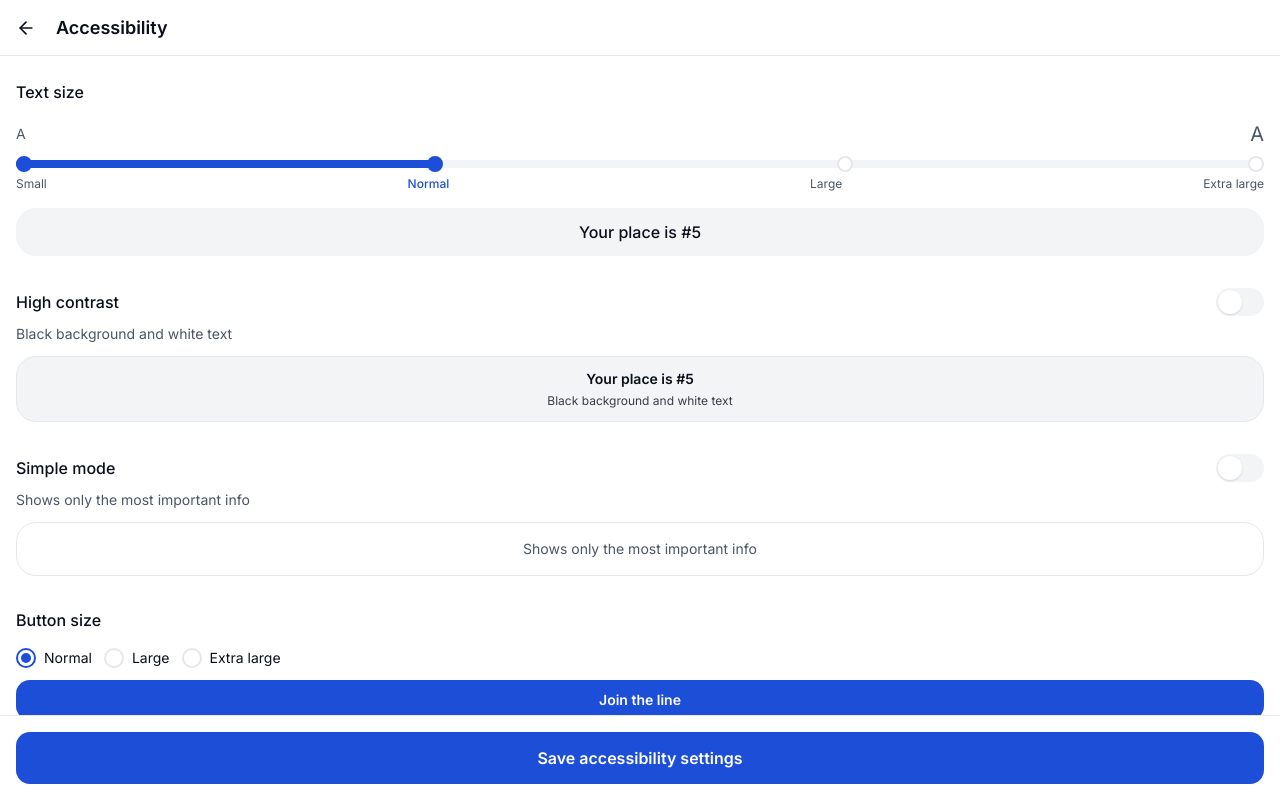
AccessibilitySettingsScreen › updates high contrast and simple mode previews
Click the button with test id "high-contrast-toggle" at {"x": 1240, "y": 302}, box [1216,288,1264,316]
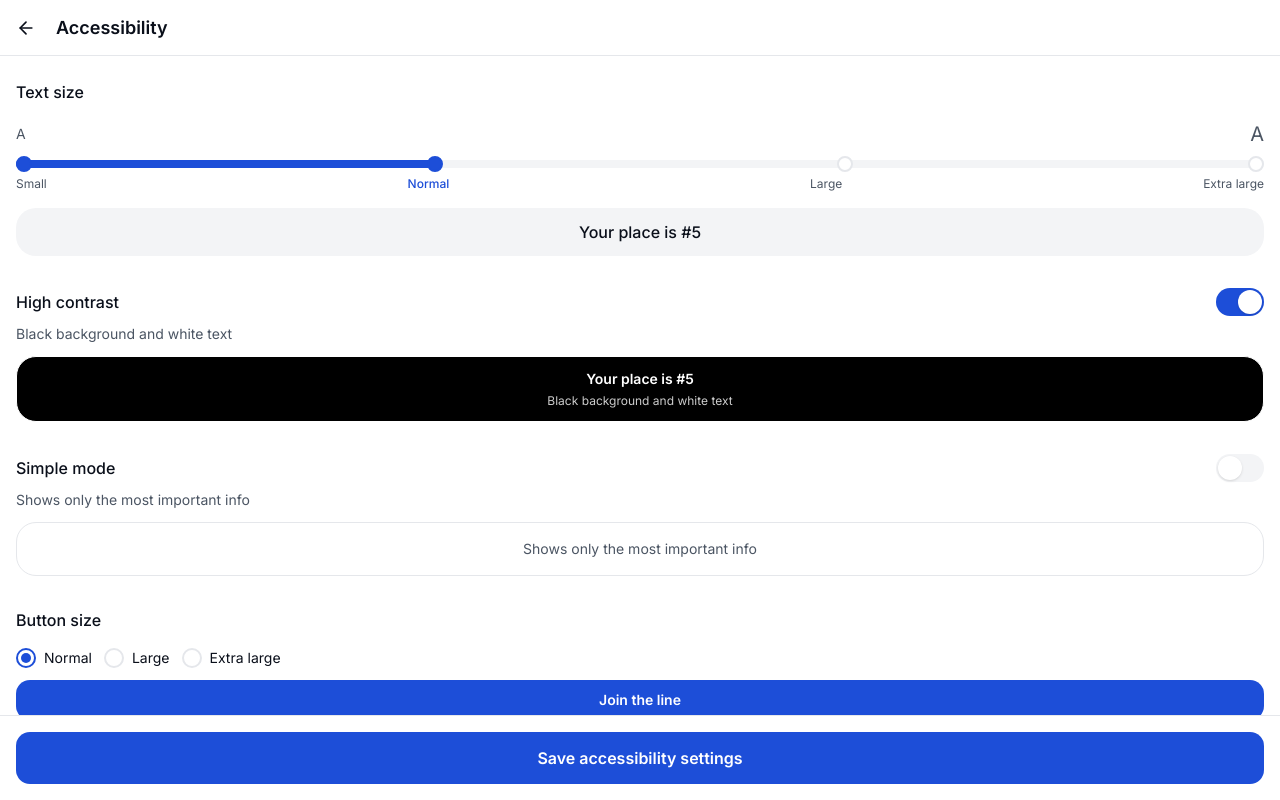
Check: the element with test id "high-contrast-preview" has class "bg-black", box [16,356,1264,422]
Click the button with test id "simple-mode-toggle" at {"x": 1240, "y": 468}, box [1216,454,1264,482]
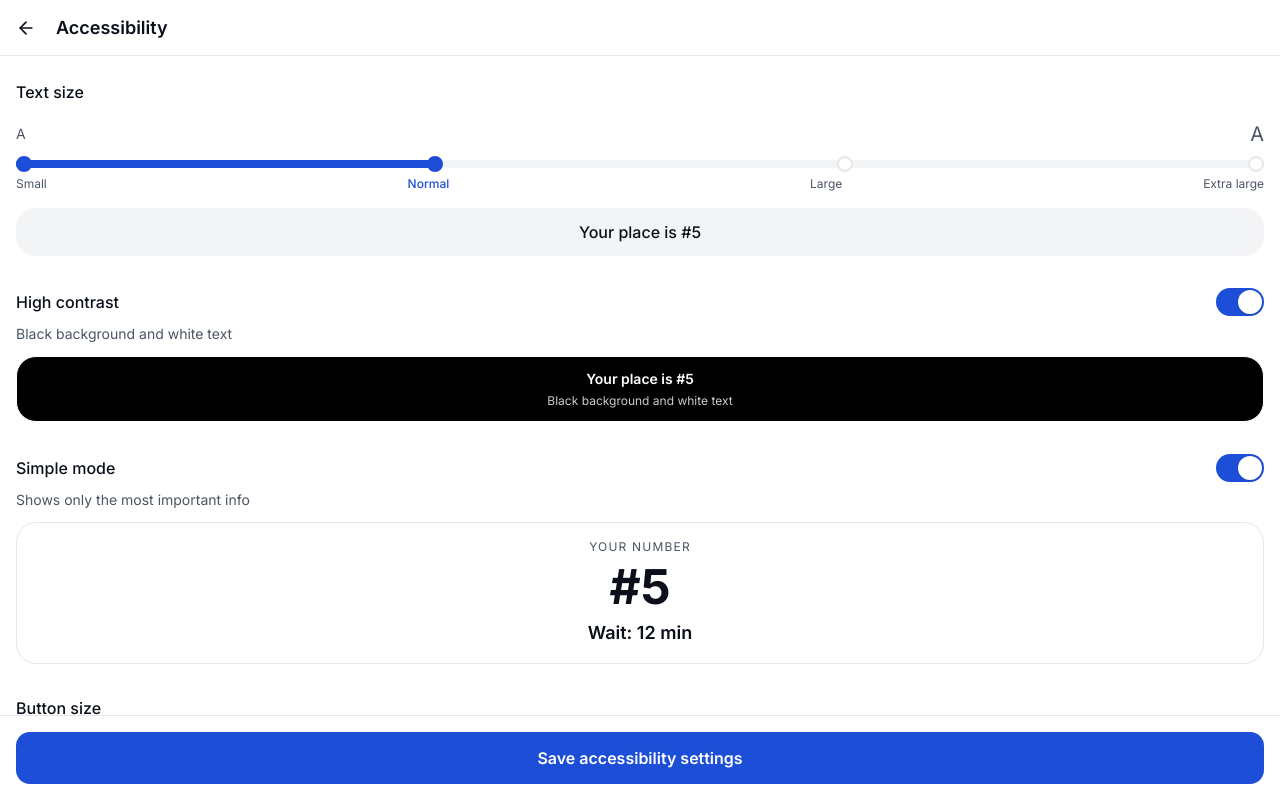
Check: the element with test id "simple-mode-preview" shows "#5", box [610,557,670,616]
